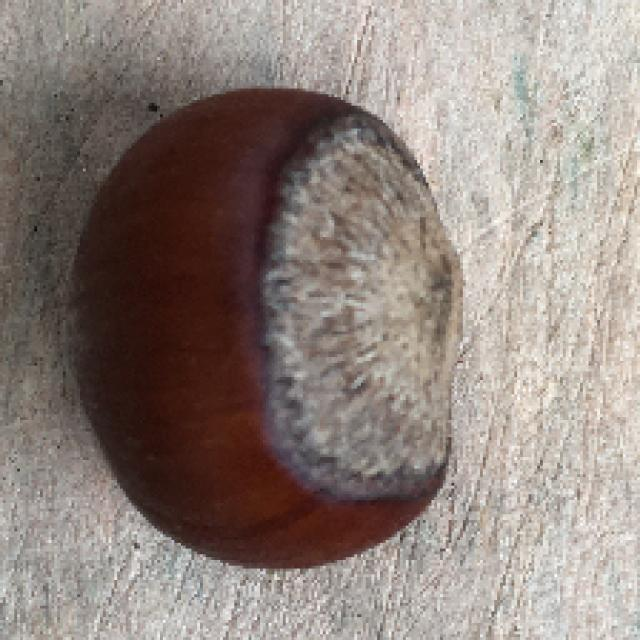qualityHazelnut: (70, 86, 465, 569)
